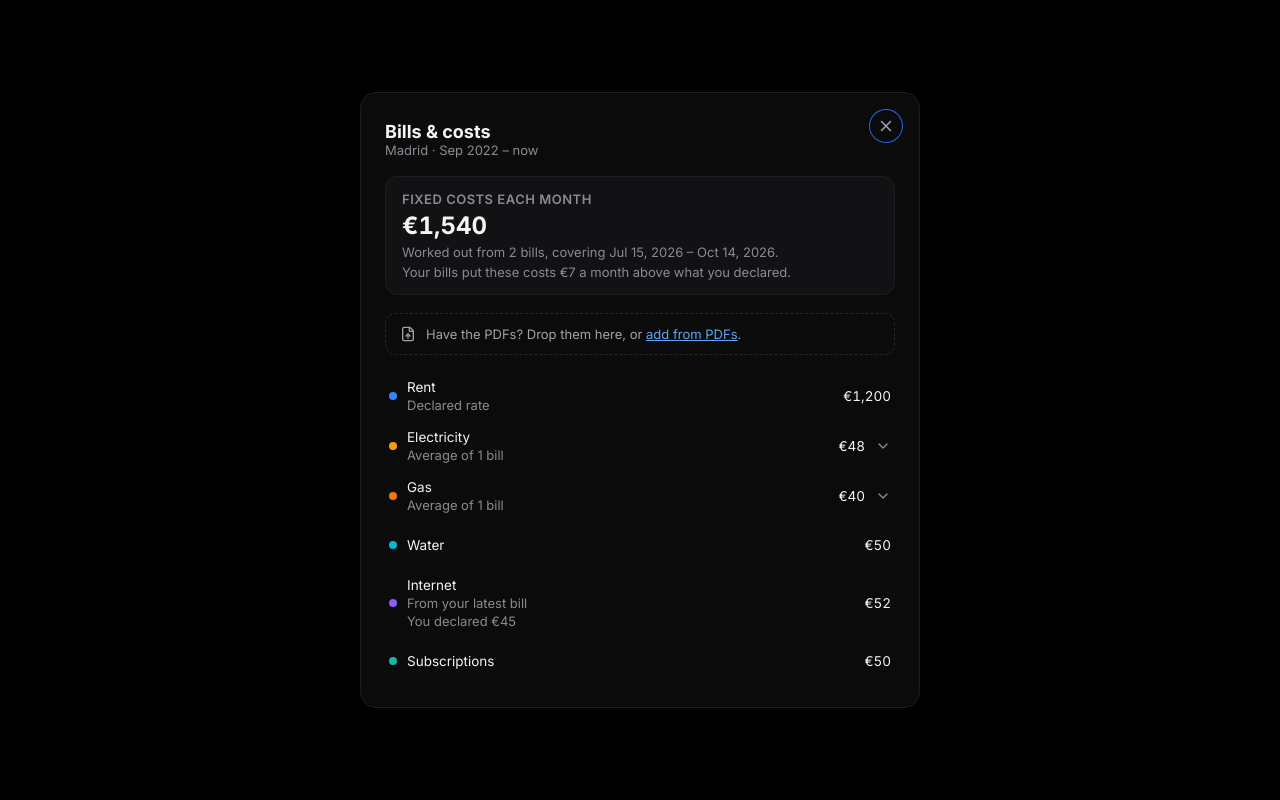
it: the costs and bills of a home › shows the bills of a category when its row is tapped, newest first, and hides them again
Later steps or results of the test are not shown.
What coordinates should you click on to do the following:
click the button "Gas Average of 1 bill €40"
I would click on:
 (455, 505)
Its box is [385,473,895,519].
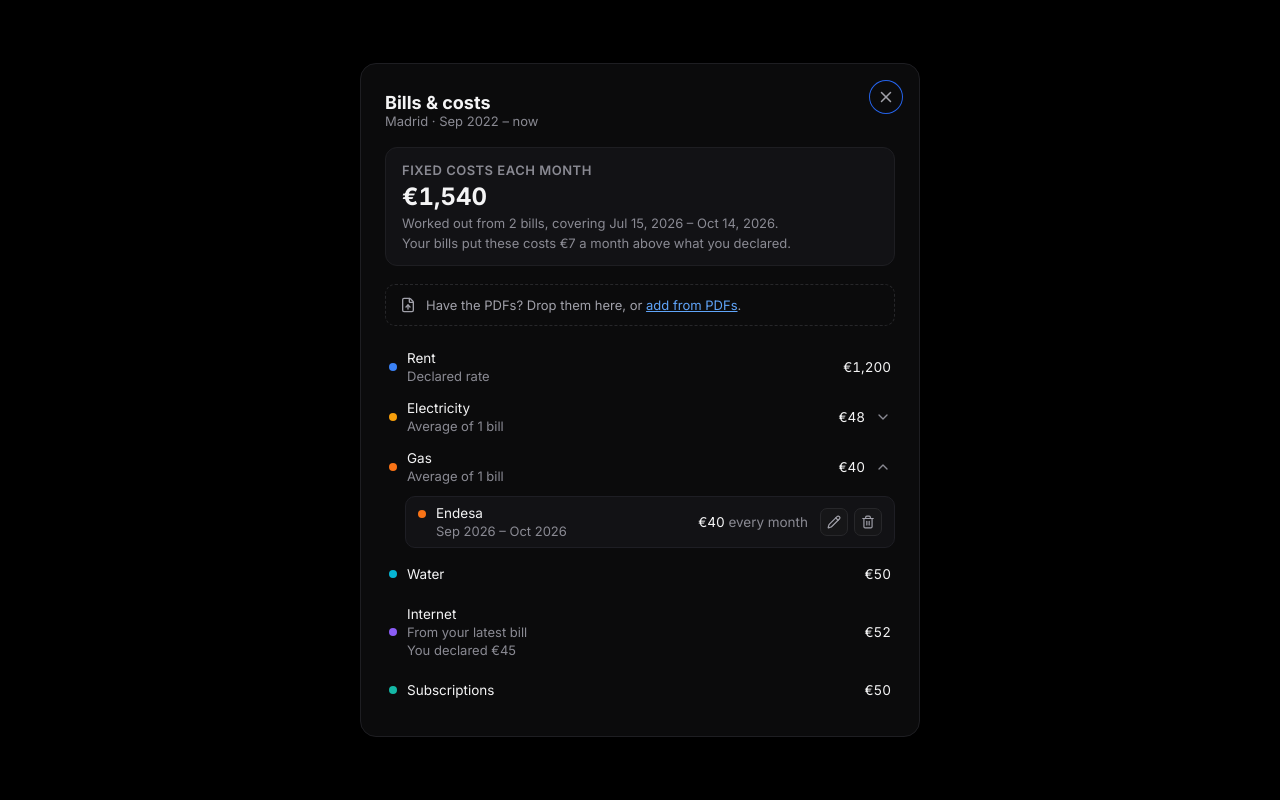
Result: the button "Gas Average of 1 bill €40" is expanded at [385,444,895,490]
Result: the text "Endesa" is shown at [436,505,483,521]
